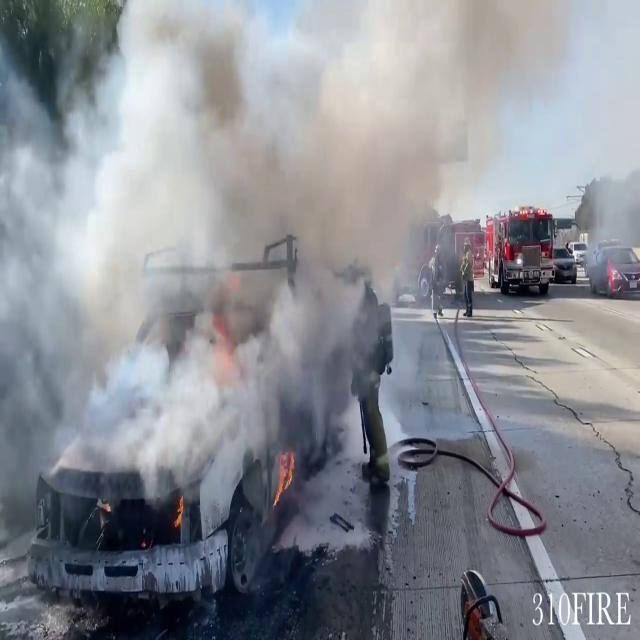Smoke: (0, 0, 444, 522), (577, 104, 640, 271)
